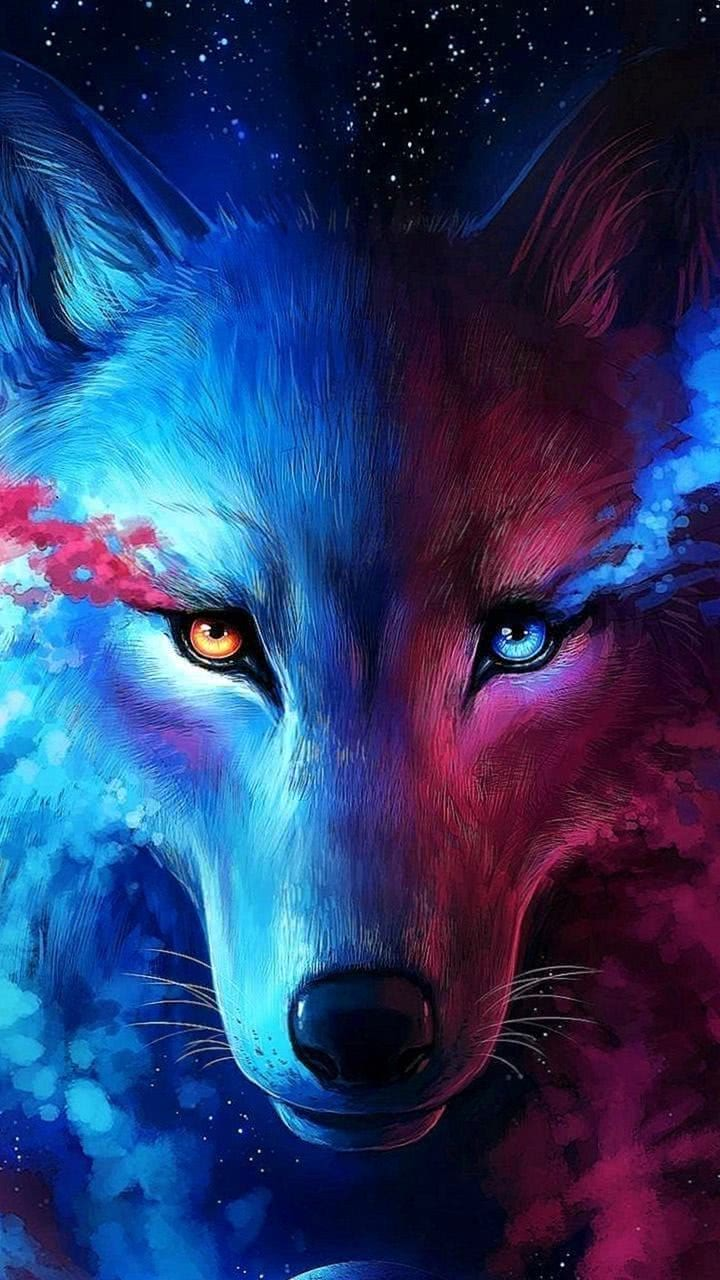Lobo: (8, 26, 717, 1166)
